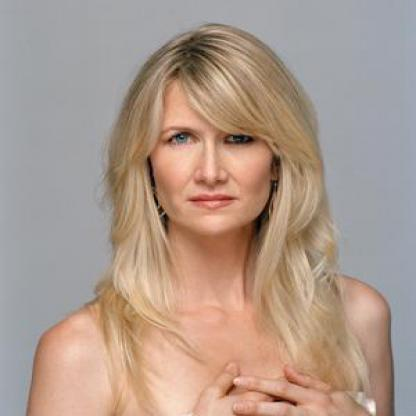long-hair: (96, 240, 351, 312)
